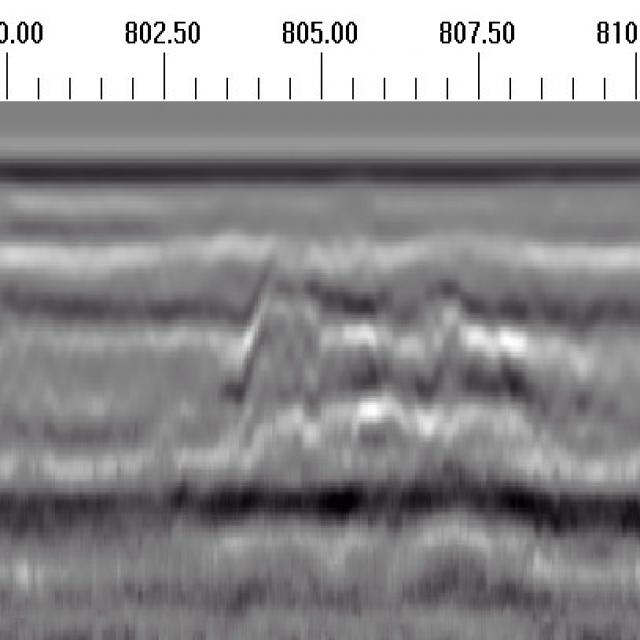loose: (206, 238, 578, 547)
